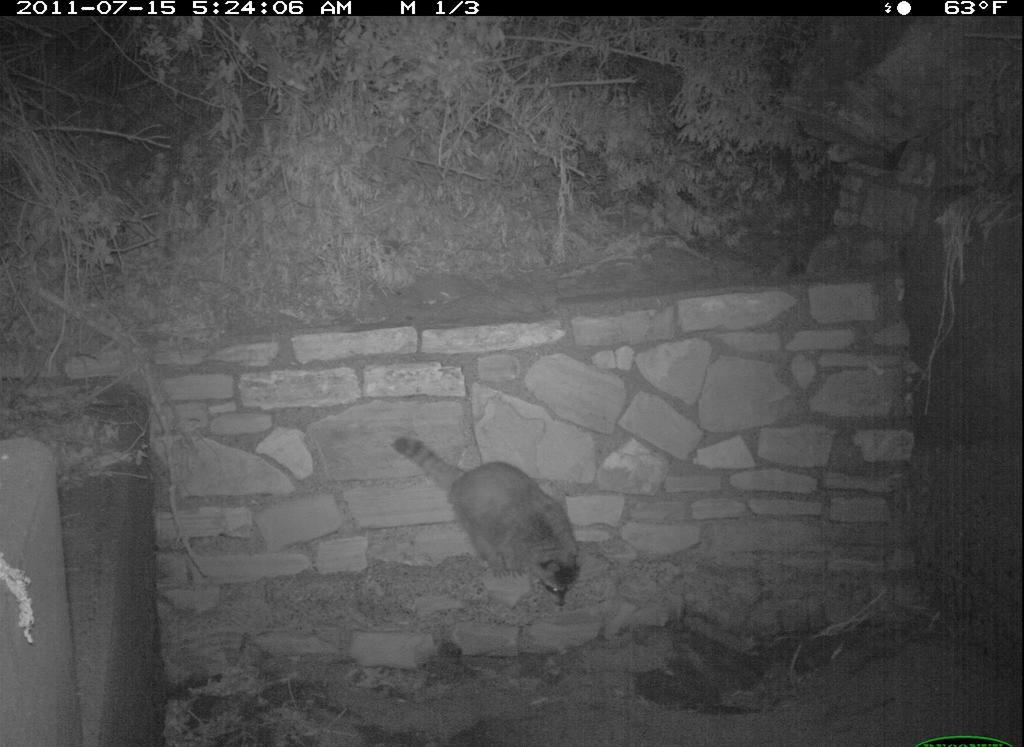raccoon: (390, 432, 592, 614)
